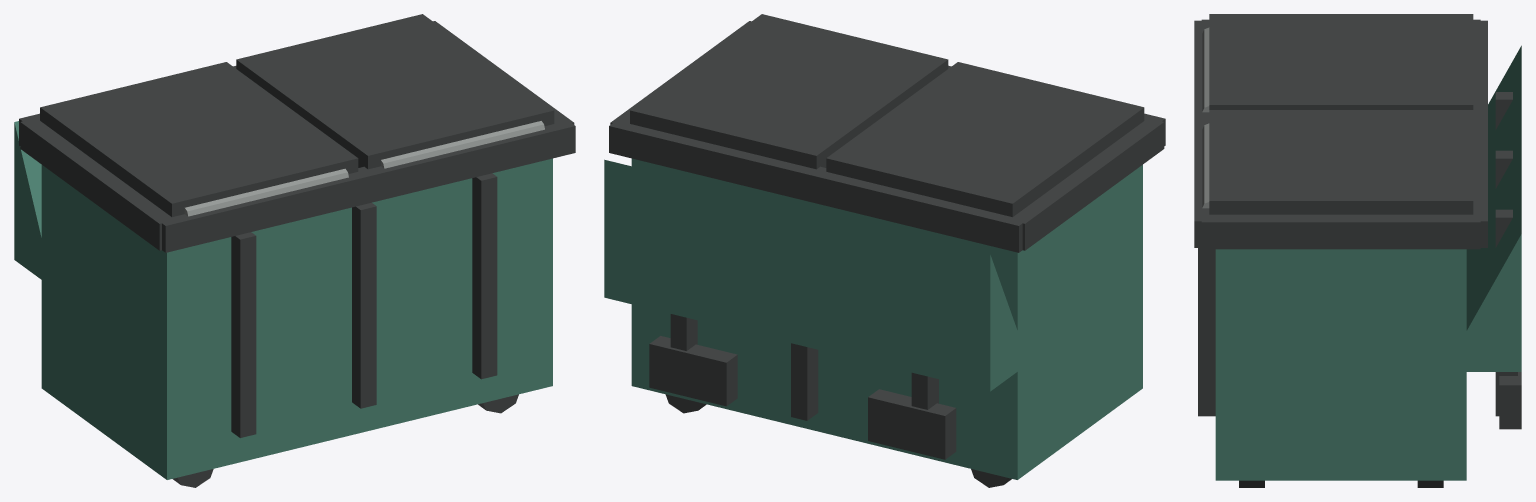
File: dumpster_green.glb
3 renders of one model, left to right at view 1: azimuth 30°, elevation 25°; view 2: azimuth 150°, elevation 25°; view 3: azimuth 270°, elevation 25°, orthographic.
Visible parts, largest first — view 1: dumpster_body, lid_2, lid_1, top_rim_back, top_rim_right, back_rib_3, back_rib_1, back_rib_2, front_slope, hinge_2, hinge_1; view 2: front_slope, dumpster_body, lid_2, lid_1, top_rim_front, top_rim_right, fork_pocket_2, fork_pocket_1, front_rib_2, front_rib_3, front_rib_1; view 3: dumpster_body, lid_1, lid_2, front_slope, top_rim_left, top_rim_front, back_rib_1, top_rim_back, fork_pocket_1, front_rib_1, hinge_1, hinge_2 (+2 smaller).
Boxes of the visible parts, <box> form: dumpster_body: <box>41,158,552,479</box>; lid_2: <box>40,62,358,216</box>; lid_1: <box>236,14,554,169</box>; top_rim_back: <box>155,118,575,252</box>; top_rim_right: <box>20,117,178,250</box>; back_rib_3: <box>231,232,256,437</box>; back_rib_1: <box>472,173,497,379</box>; back_rib_2: <box>352,202,376,408</box>; front_slope: <box>14,121,45,279</box>; hinge_2: <box>184,168,348,216</box>; hinge_1: <box>381,121,544,168</box>; front_slope: <box>604,159,1027,391</box>; dumpster_body: <box>631,158,1142,479</box>; lid_2: <box>826,62,1144,217</box>; lid_1: <box>630,14,948,169</box>; top_rim_front: <box>609,118,1029,252</box>; top_rim_right: <box>1016,118,1164,250</box>; fork_pocket_2: <box>868,389,956,459</box>; fork_pocket_1: <box>649,336,737,406</box>; front_rib_2: <box>791,343,818,420</box>; front_rib_3: <box>911,372,938,409</box>; front_rib_1: <box>670,314,697,350</box>; dumpster_body: <box>1215,249,1466,480</box>; lid_1: <box>1209,110,1473,214</box>; lid_2: <box>1209,14,1473,109</box>; front_slope: <box>1444,45,1521,371</box>; top_rim_left: <box>1201,213,1480,249</box>; top_rim_front: <box>1466,20,1487,247</box>; back_rib_1: <box>1198,248,1215,416</box>; top_rim_back: <box>1194,20,1216,247</box>; fork_pocket_1: <box>1499,372,1521,429</box>; front_rib_1: <box>1495,209,1517,416</box>; hinge_1: <box>1202,123,1209,208</box>; hinge_2: <box>1202,27,1209,112</box>.
Size of the model in its own units: 2.58 by 1.81 by 1.76.
